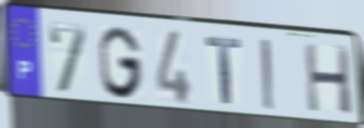4: (155, 27, 194, 107)
7: (47, 19, 89, 95)
G: (97, 24, 145, 101)
H: (302, 41, 355, 117)
I: (259, 36, 278, 113)
T: (203, 35, 243, 107)
